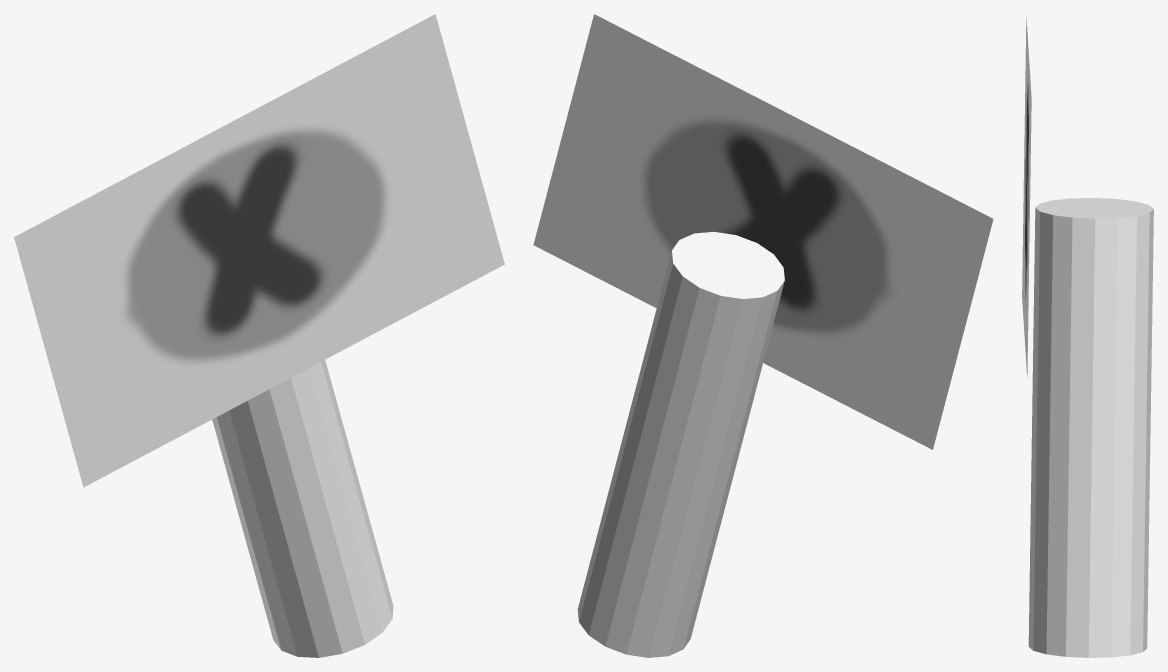
File: Tutorial.gltf
3 renders of one model, left to right at view 1: azimuth 30°, elevation 25°; view 2: azimuth 150°, elevation 25°; view 3: azimuth 270°, elevation 25°, orthographic. The views are drawn at different scales.
Visible parts, largest first — view 1: Cylinder; view 2: Cylinder; view 3: Cylinder.
Part boxes in pixels (left/top/right/bottom): Cylinder: left=14, top=14, right=504, bottom=657; Cylinder: left=533, top=14, right=993, bottom=657; Cylinder: left=1022, top=16, right=1153, bottom=657.
Size of the model in its own units: 0.951 by 1.16 by 0.2327.
1 material, 1 textured.
